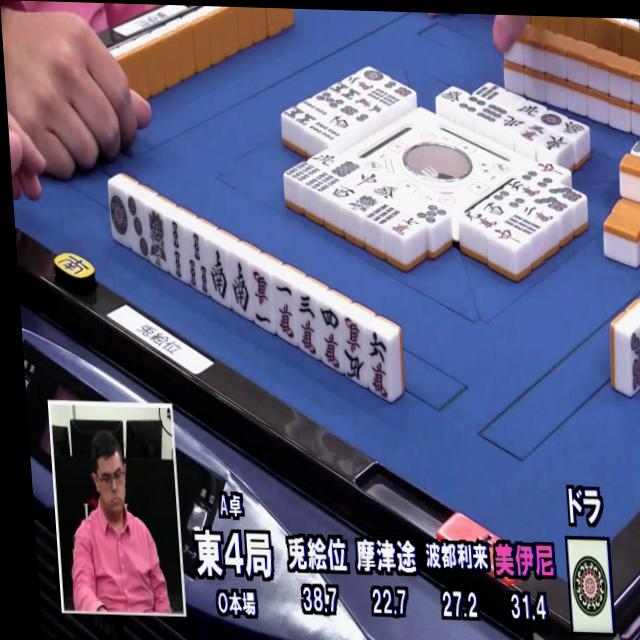m1: (270, 281, 298, 345), (250, 266, 277, 329)
m3: (292, 291, 321, 359)
m4: (314, 303, 345, 372)
m5: (337, 316, 369, 386)
m6: (361, 328, 398, 403)
s1: (145, 209, 169, 272)
s2: (167, 219, 189, 283)
s3: (184, 230, 210, 296)
south: (227, 256, 252, 318), (205, 245, 229, 307)
t1: (110, 187, 132, 243)
t2: (126, 194, 149, 259)
t7: (626, 327, 640, 395)
zhong: (492, 222, 526, 253)
